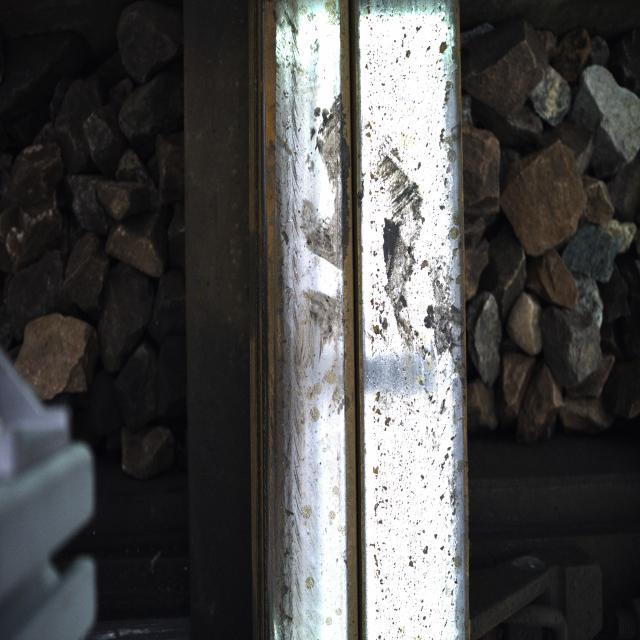scar: (369, 41, 451, 582), (280, 54, 342, 572)
